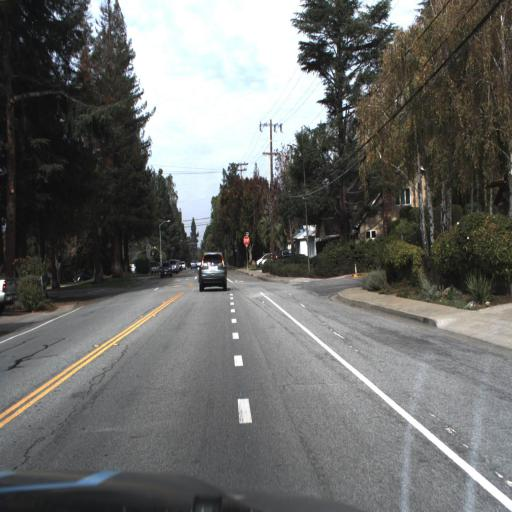car: (198, 248, 227, 294), (272, 248, 302, 267), (70, 264, 94, 283), (70, 266, 95, 284), (157, 259, 172, 284)
